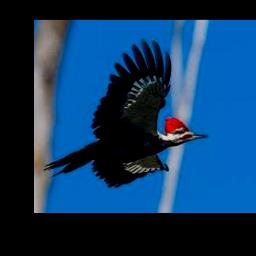Woodpecker: (43, 38, 208, 187)
